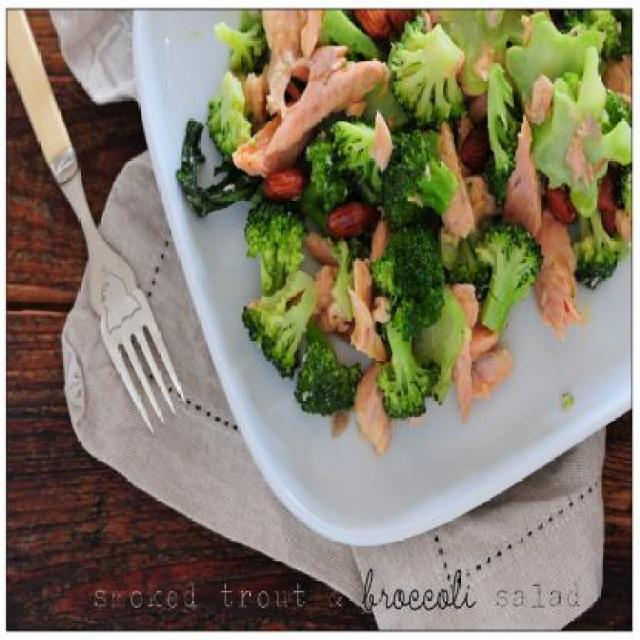Broccoli: (204, 9, 633, 422)
